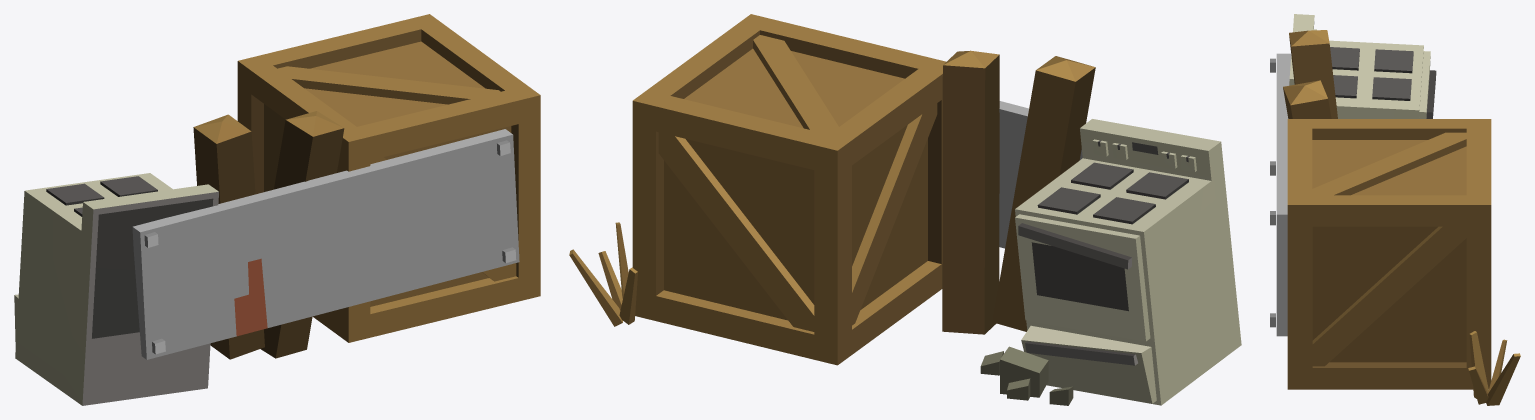
Rendered from obstacle.fbx.
The picture shows the model from 3 angles, left to right: view 1: azimuth 30°, elevation 25°; view 2: azimuth 150°, elevation 25°; view 3: azimuth 270°, elevation 25°; orthographic projection. The views are drawn at different scales.
Parts seen in each view (by area): view 1: board, box, huitugou_2015_54; view 2: box, huitugou_2015_54, board, huitugou_2015_54.001; view 3: box, huitugou_2015_54, board, huitugou_2015_54.001.
Part boxes in pixels (x1,y1,x2,y2): board: (132,129,519,359); box: (237,14,540,342); huitugou_2015_54: (14,111,348,405); box: (632,14,945,365); huitugou_2015_54: (838,50,1241,405); board: (999,101,1082,248); huitugou_2015_54.001: (569,222,637,326); box: (1287,119,1491,389); huitugou_2015_54: (1283,14,1436,118); board: (1270,53,1290,336); huitugou_2015_54.001: (1468,331,1520,405).
Size of the model in its own units: 408 by 199 by 191.
1 material, 1 textured.
